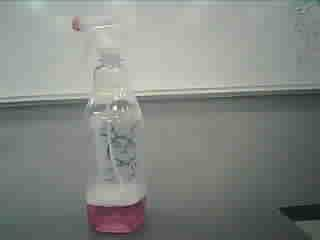hazard: (60, 8, 162, 240)
